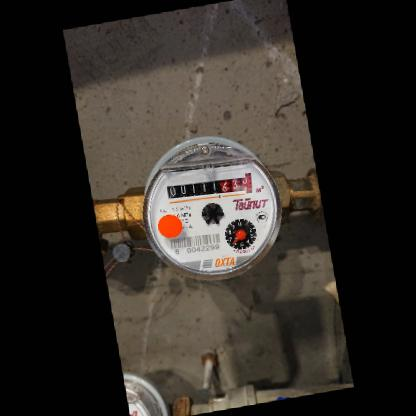digital_screen: (163, 176, 219, 204)
